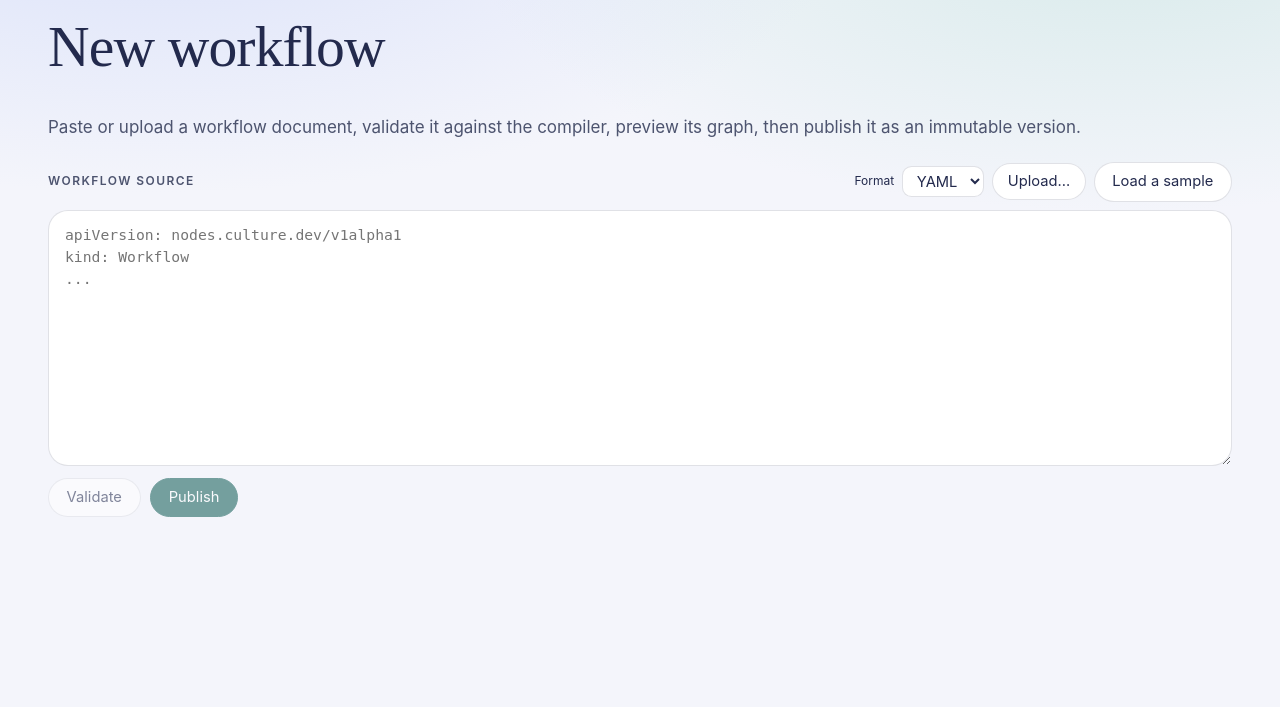
it: AuthorWorkflow: preview › renders a read-only graph preview once the document validates clean
Type "apiVersion: nodes.culture.dev/v1alpha1 kind: Workflow metadata:   name: hand-authored   version: 1.0.0   ownerRef: team/platform-ai spec:   entry: greet   nodes:     greet:       kind: agent       own" into the text box labelled "Workflow source" at (640, 338), box [48,210,1232,466]
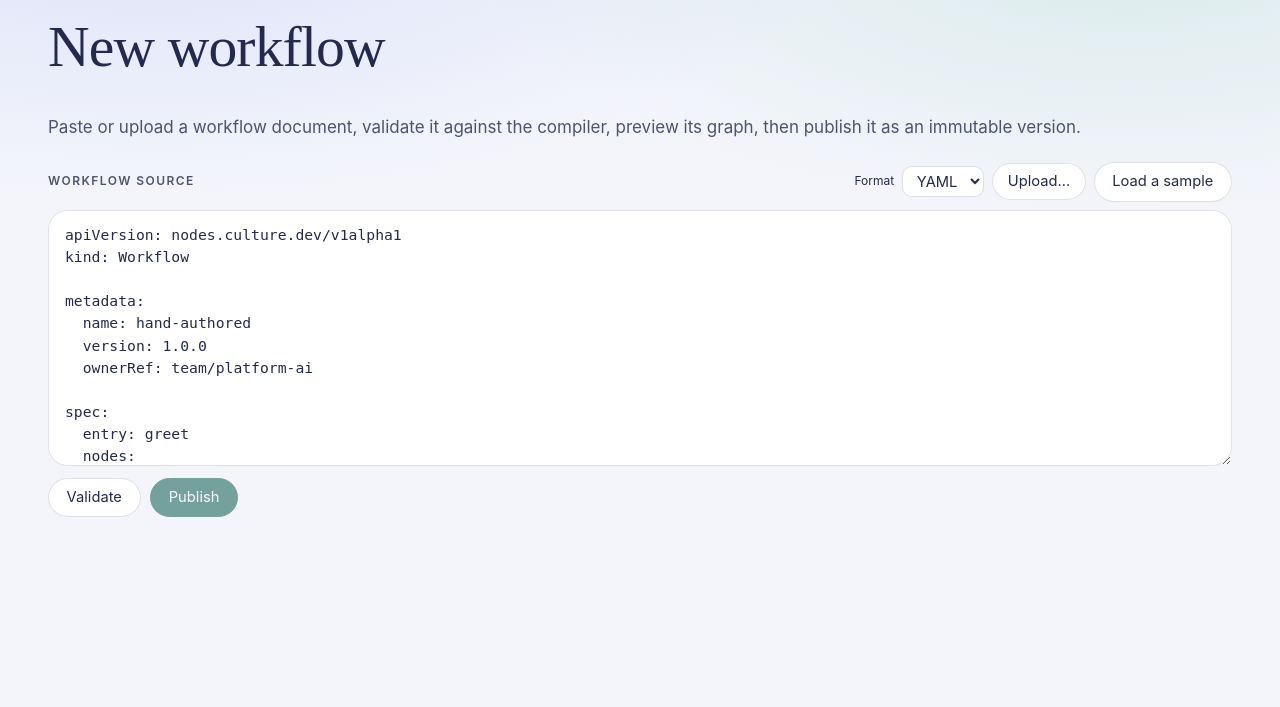
Click the button "Validate" at (94, 498), box [48,478,140,517]
(page scrolled)
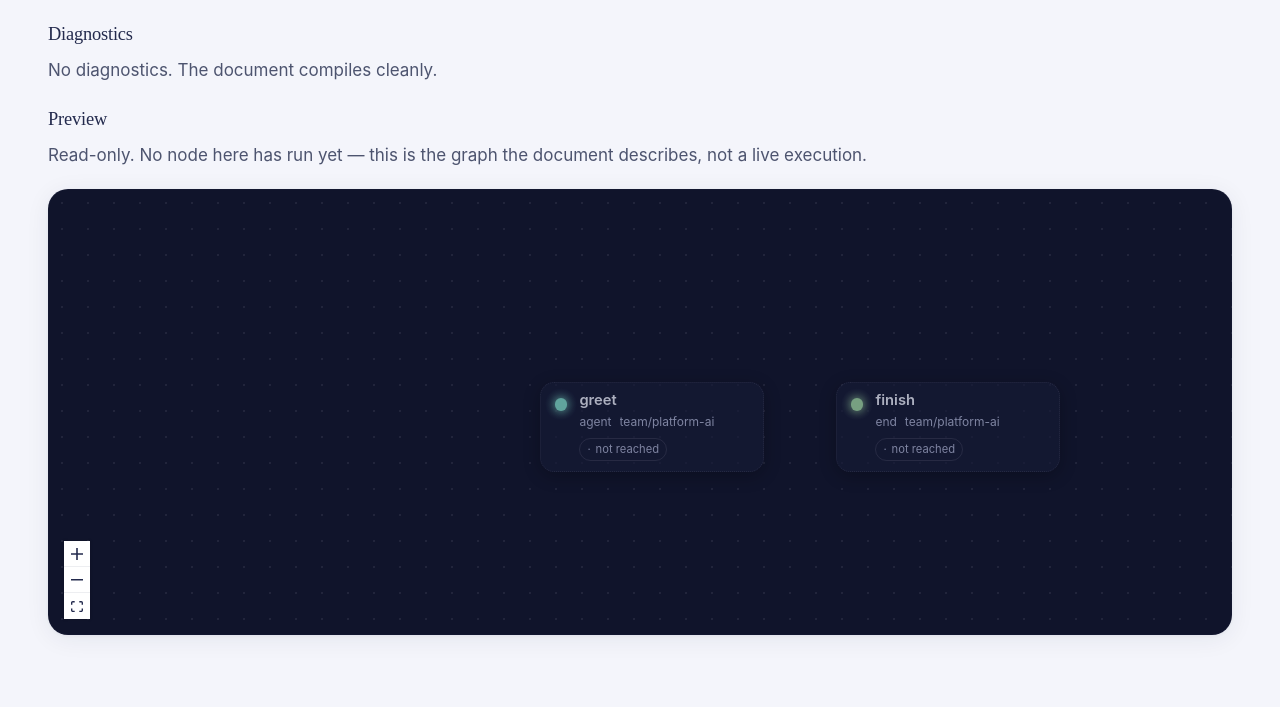
Check: the element with id "workflow-preview-canvas" is shown, box [48,189,1232,635]
